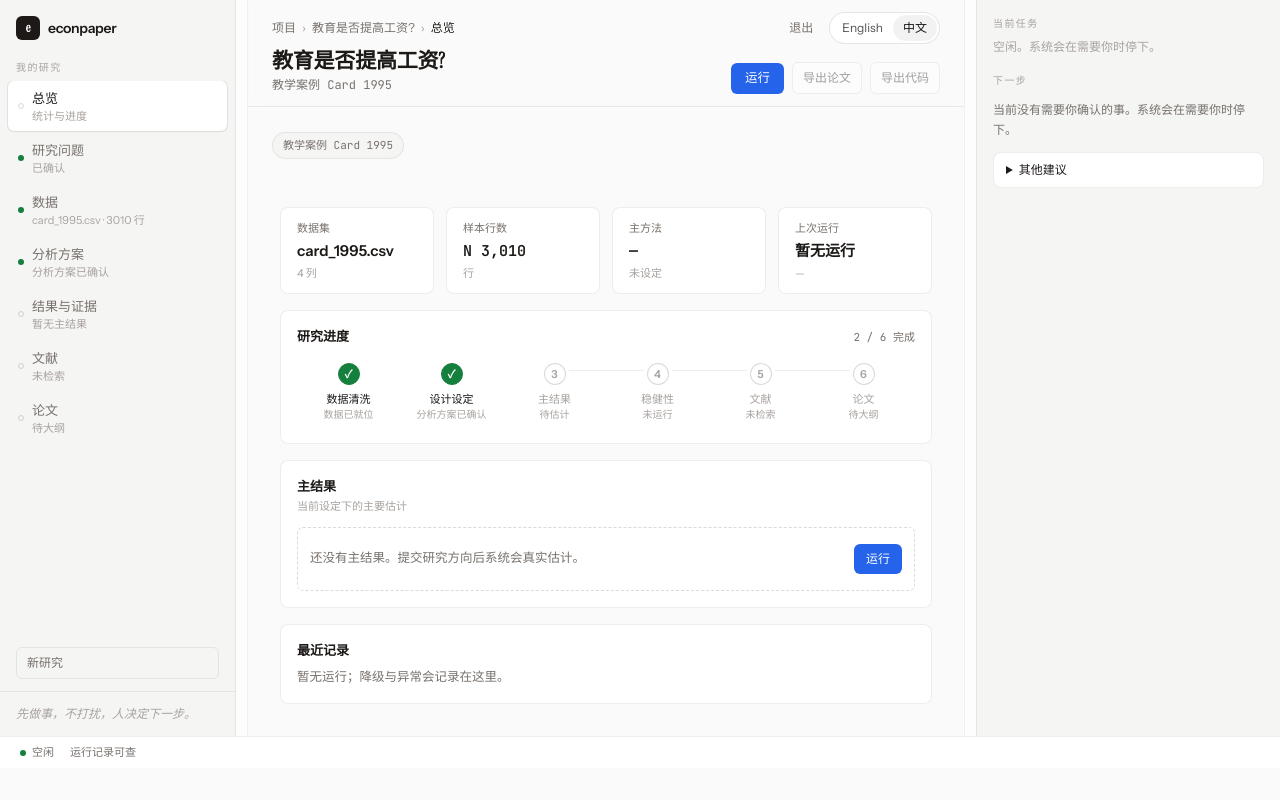
Test case: C3 刷新恢复走后端 snapshot › storage 清空后从 snapshot 恢复 teaching_case / expectation / freeze
Expected: the text with test id "project-name" reads "教育是否提高工资?", [312,20,415,35]
Expected: the heading with test id "workbench-title" reads "教育是否提高工资?", [272,47,445,75]
Click the button with test id "rail-question" at (118, 158), box [8,133,227,183]
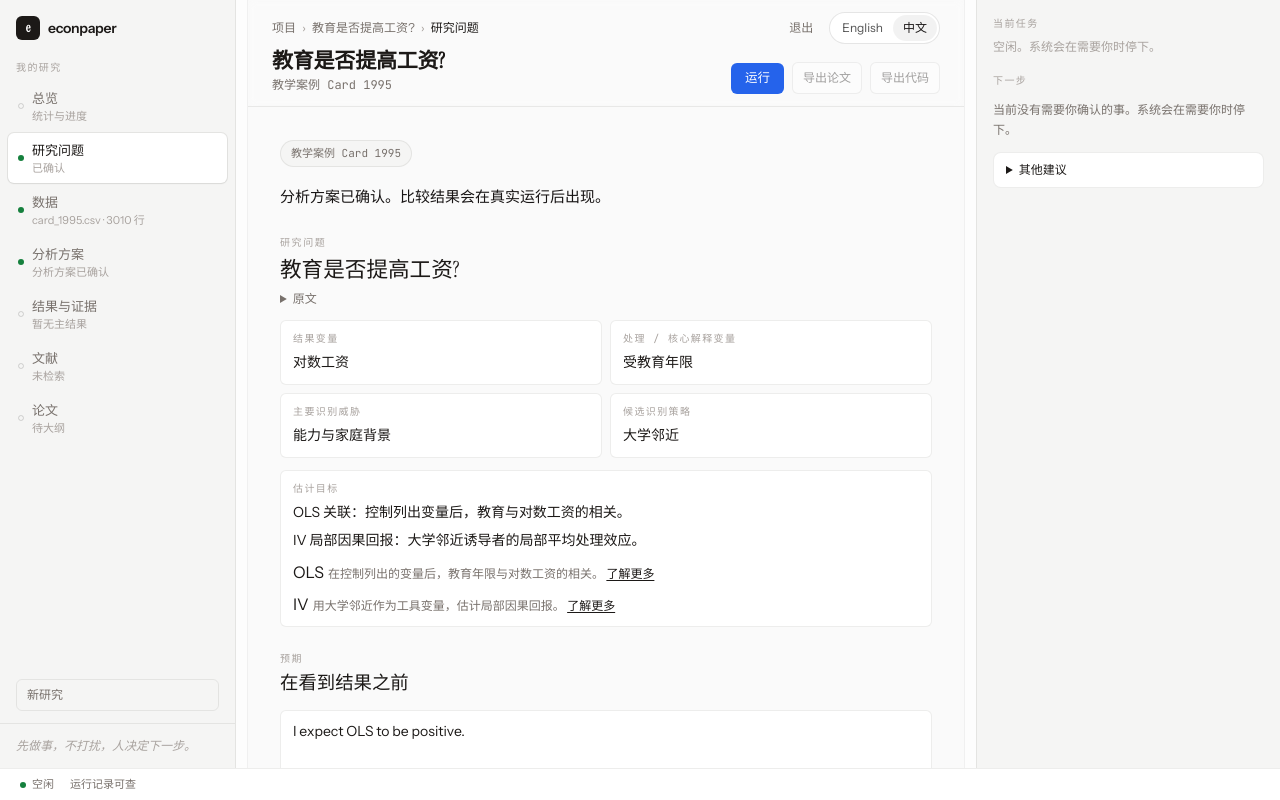
Result: the element with test id "research-question-card" shows "对数工资" at [293,353,349,371]
Result: the element with test id "research-question-card" shows "受教育年限" at [623,353,693,371]
Result: the text box holds "I expect OLS to be positive." at [280,710,932,768]
Click the button with test id "rail-design" at (118, 262), box [8,237,227,287]
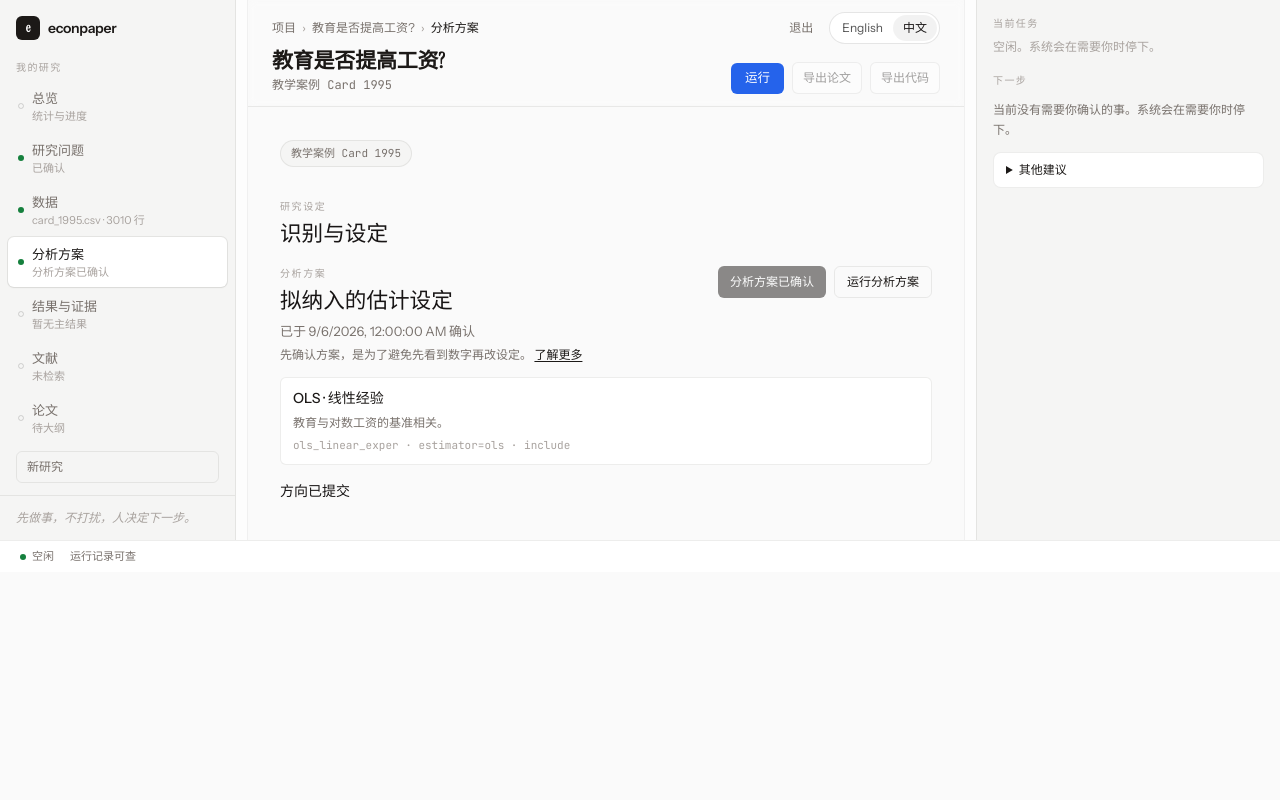
Expected: the button with test id "spec-space-freeze" is shown, [718,266,826,298]
Result: the element with test id "spec-space" is shown at [280,266,932,464]
Result: the element with test id "spec-space" shows "OLS · 线性经验" at [293,389,384,407]
